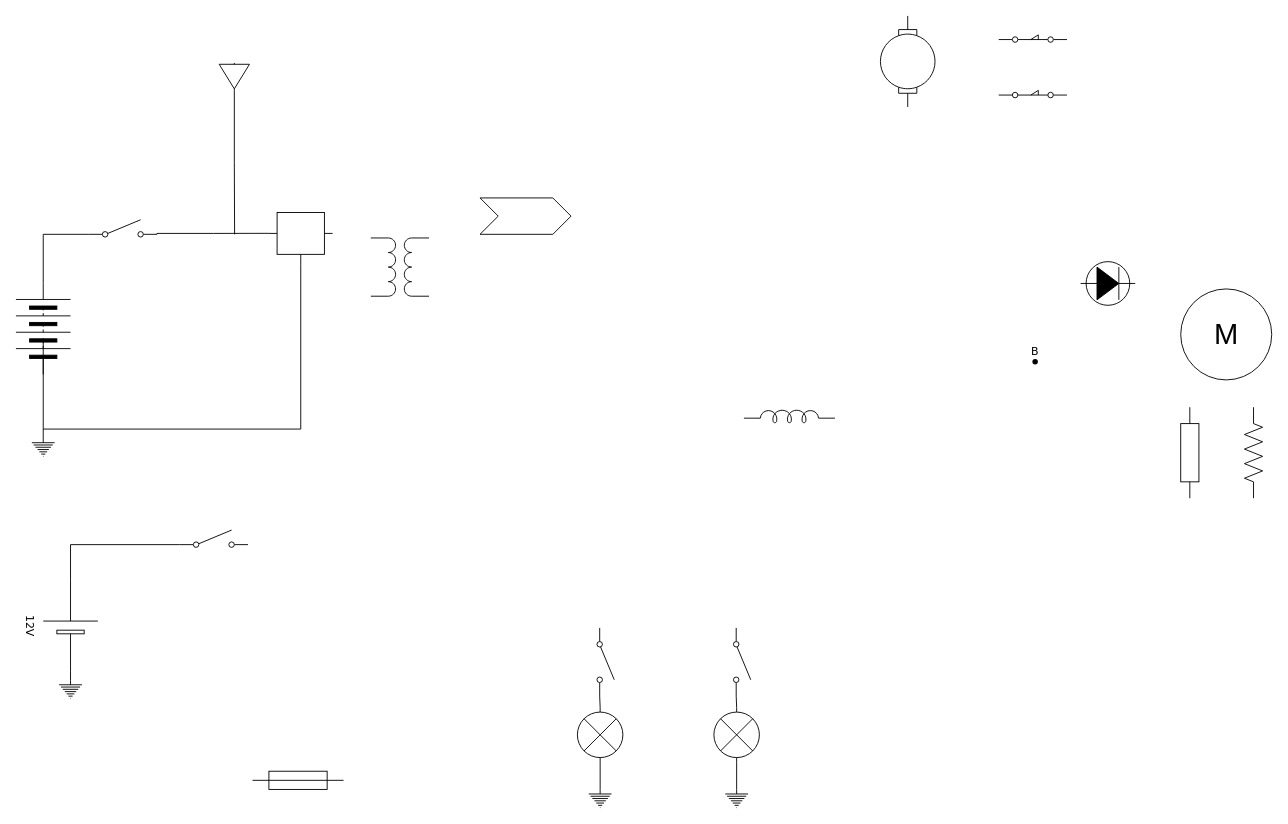
This 1288x824 diagram has some shape labels left out. The centre of each missing label's shape, as x and y in pixels:
20 Ω: the point at 1253,452
48V: the point at 43,328
